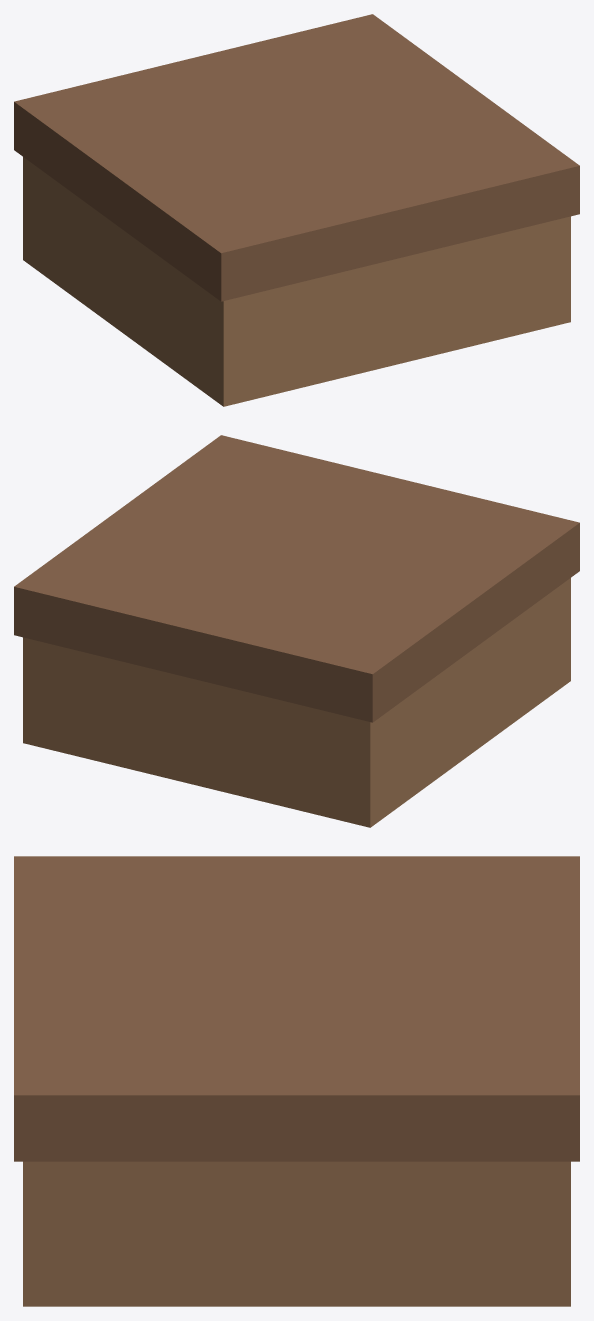
File: aventureiro_canela.glb
3 views of the same model, one above another, from view 1: azimuth 30°, elevation 25°; view 2: azimuth 150°, elevation 25°; view 3: azimuth 270°, elevation 25° (orthographic). The views are drawn at different scales.
Visible parts, largest first — view 1: aventureiro_canela; view 2: aventureiro_canela; view 3: aventureiro_canela.
Boxes of the visible parts, <box> form: aventureiro_canela: <box>14,14,579,406</box>; aventureiro_canela: <box>14,435,579,827</box>; aventureiro_canela: <box>14,856,579,1306</box>.
Bounding box in the file's own units: 0.31 × 0.13 × 0.31.
